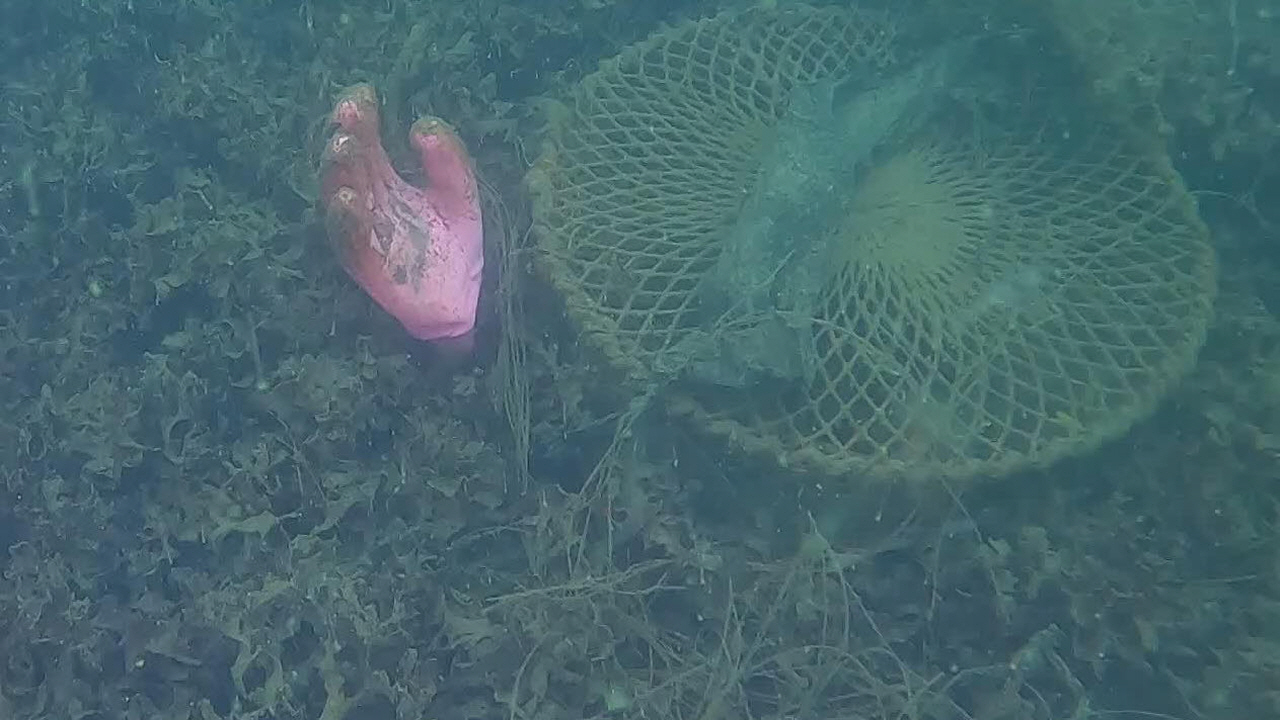circular fish trap: (528, 0, 1219, 483)
